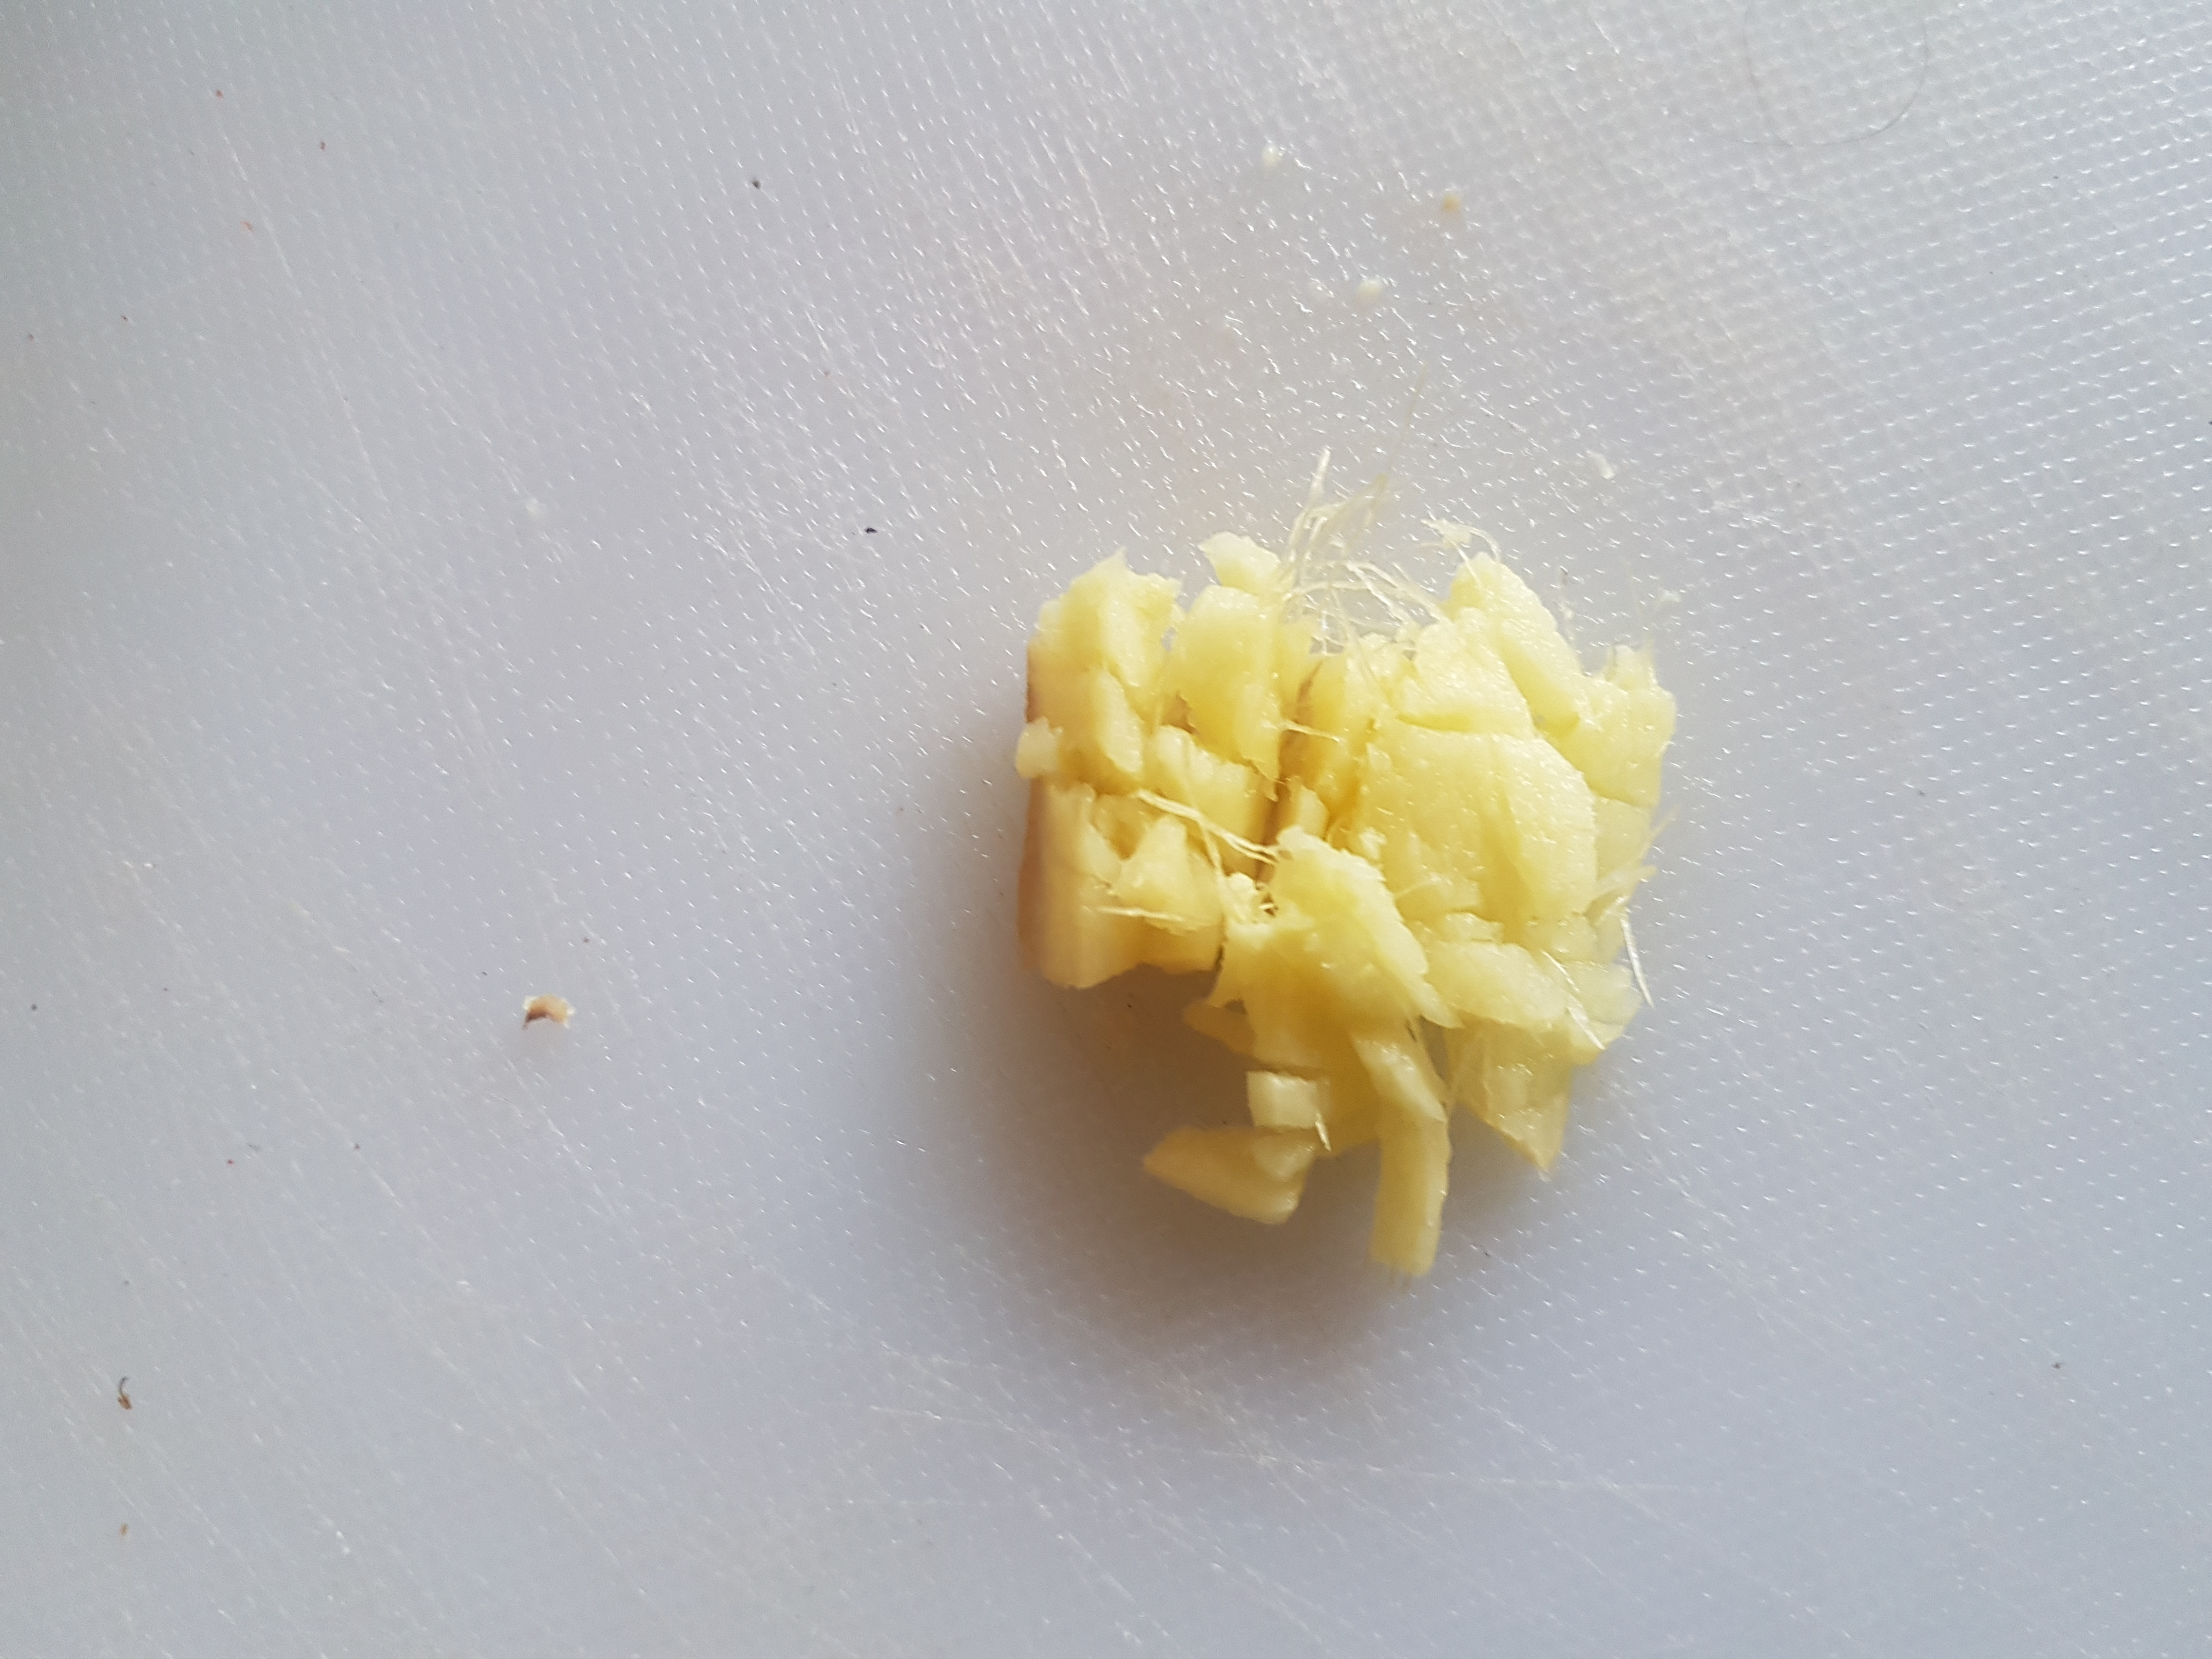Minced ginger: (1015, 507, 1700, 1307)
